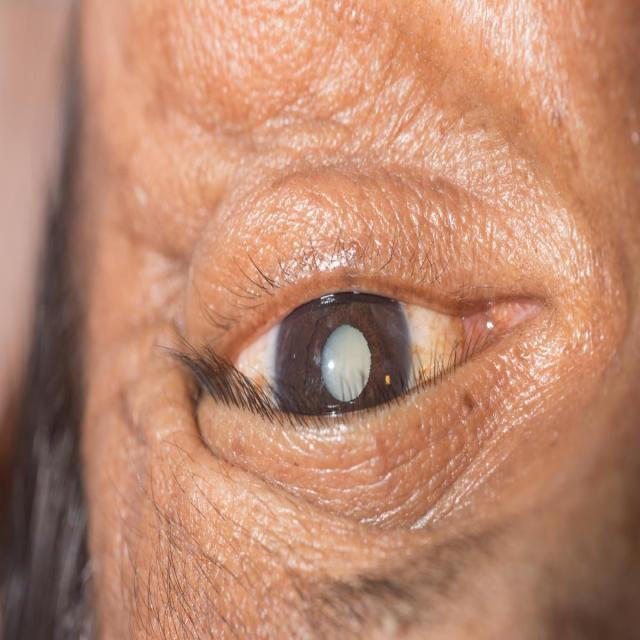Cataract: (273, 262, 412, 476)
